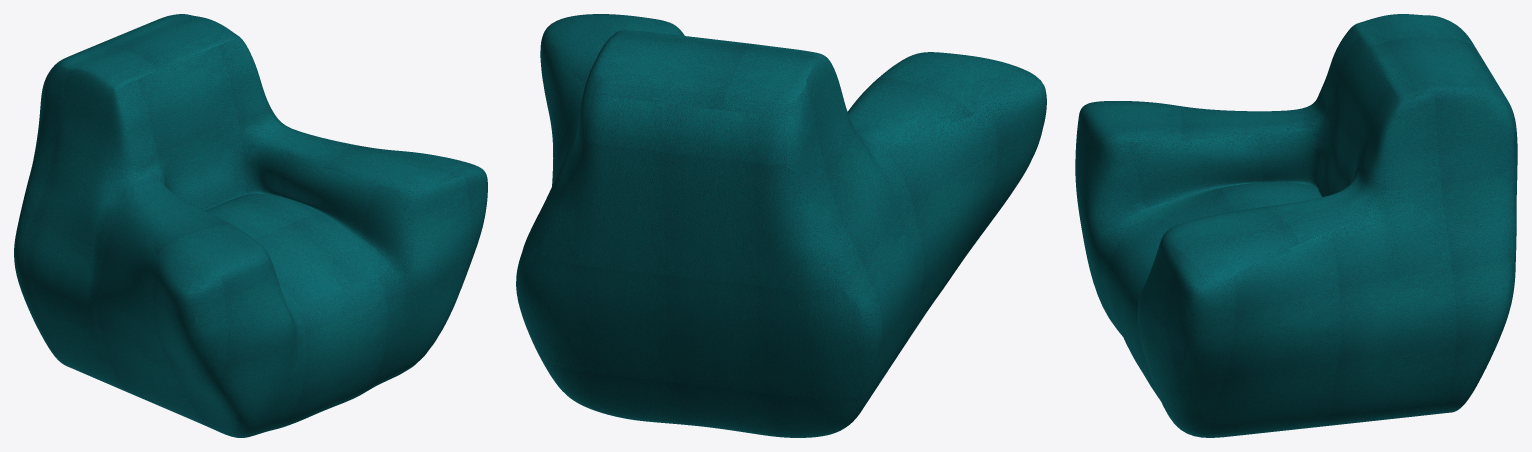
The model's file is pátzcuaroNiño.gltf.
3 renders of one model, left to right at view 1: azimuth 30°, elevation 25°; view 2: azimuth 150°, elevation 25°; view 3: azimuth 270°, elevation 25°, orthographic. The views are drawn at different scales.
Parts seen in each view (by area): view 1: main; view 2: main; view 3: main.
Boxes of the visible parts, box(x1,y1,x2,y2) form: main: box(14, 14, 487, 437); main: box(516, 14, 1046, 437); main: box(1075, 14, 1517, 437).
Bounding box in the file's own units: 4.03 × 3.15 × 3.88.
Materials: 1 (1 with a texture image).
